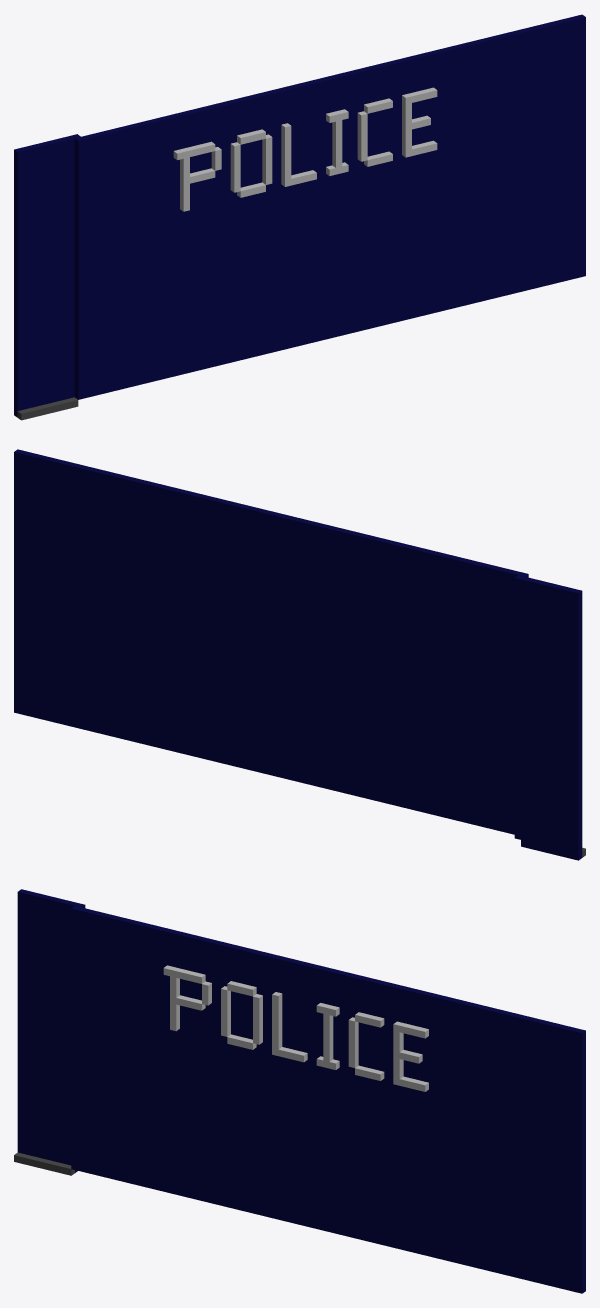
The model's file is PoliceDetailed-3.obj.
3 views of the same model, one above another, from view 1: azimuth 30°, elevation 25°; view 2: azimuth 150°, elevation 25°; view 3: azimuth 330°, elevation 25° (orthographic).
Parts seen in each view (by area): view 1: PoliceDetailed-3; view 2: PoliceDetailed-3; view 3: PoliceDetailed-3.
Boxes of the visible parts, box(x1,y1,x2,y2) form: PoliceDetailed-3: box(14, 14, 585, 420); PoliceDetailed-3: box(14, 449, 585, 860); PoliceDetailed-3: box(14, 889, 585, 1293).
Size of the model in its own units: 89 by 40 by 3.
Materials: 1 (1 with a texture image).
